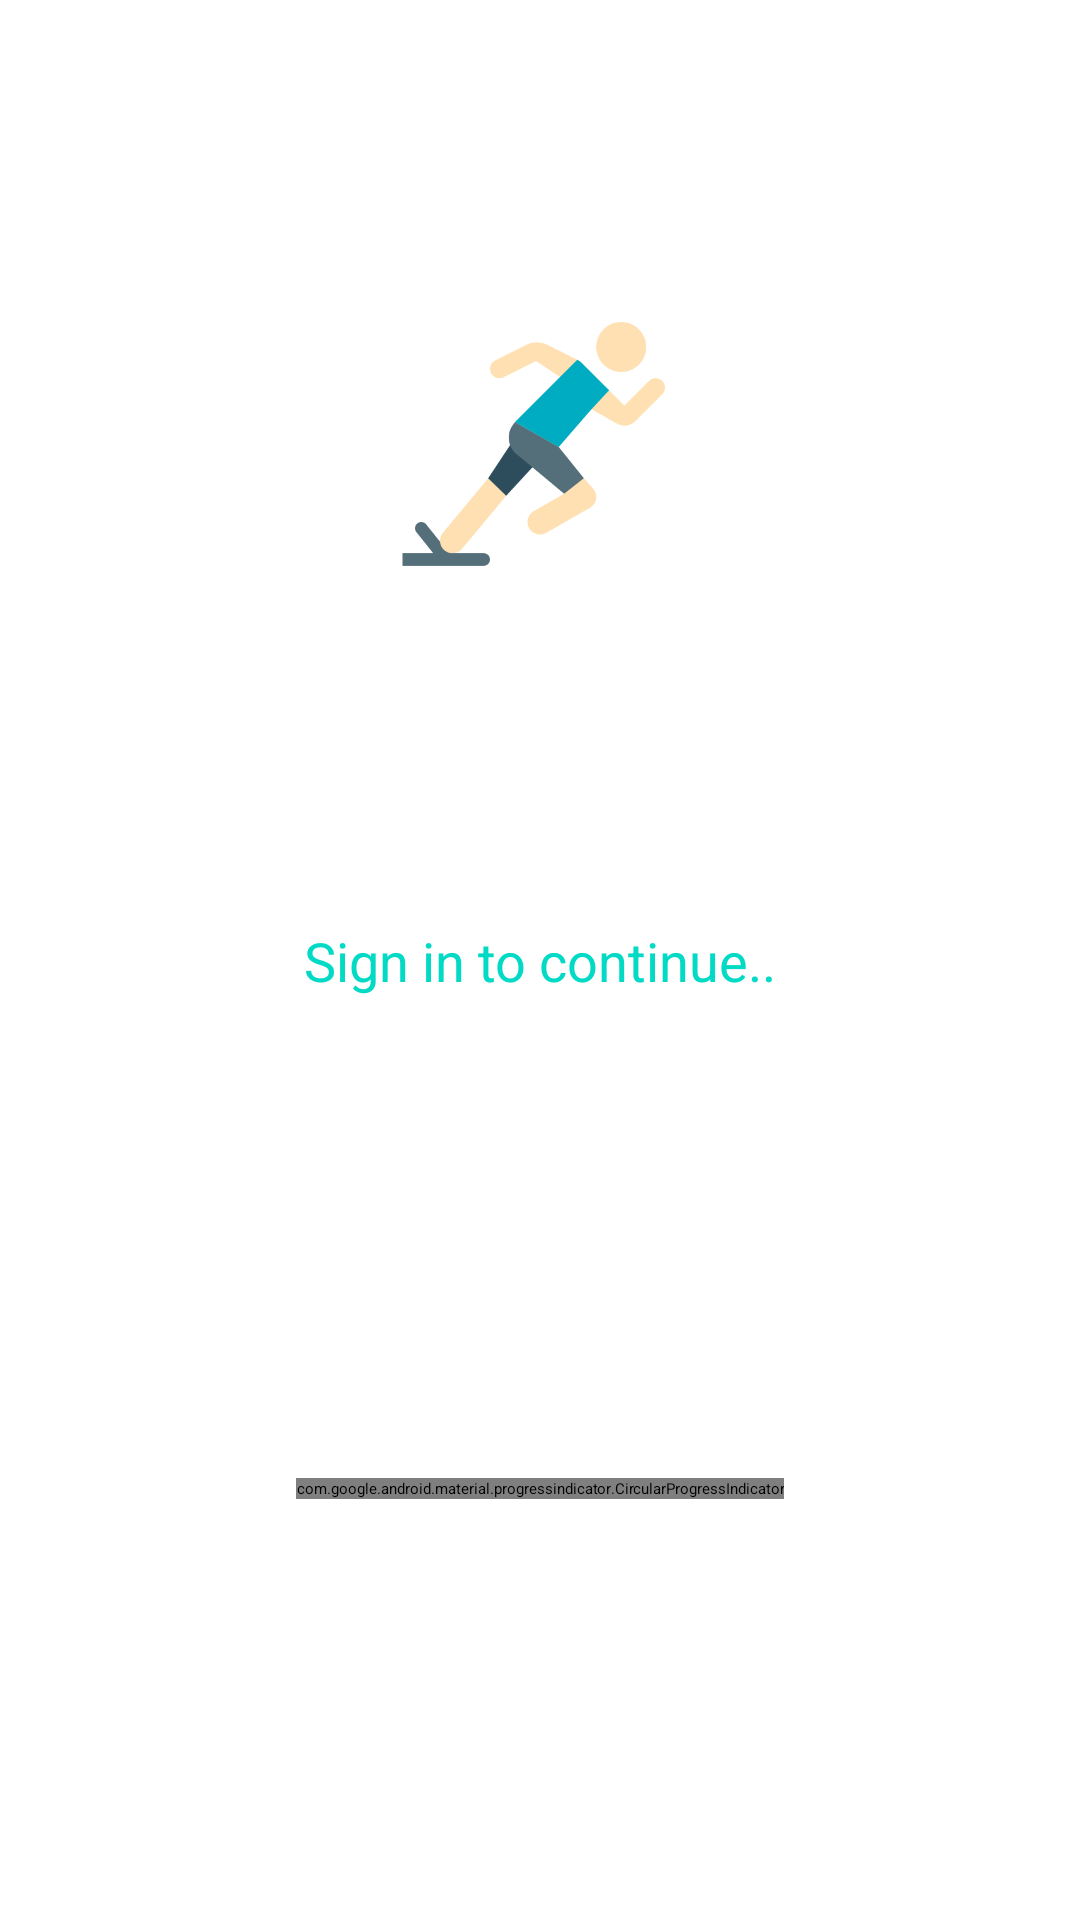

Icon bounding boxes for this 1080 x 1920 phone screenshot, format (x1, y1, x2, y2):
start skin type: (402, 322, 665, 566)
